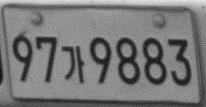3: (167, 38, 192, 86)
7: (35, 35, 57, 83)
8: (141, 36, 167, 84), (116, 36, 140, 84)
9: (89, 36, 112, 84), (11, 34, 33, 81)
가: (61, 45, 85, 84)
